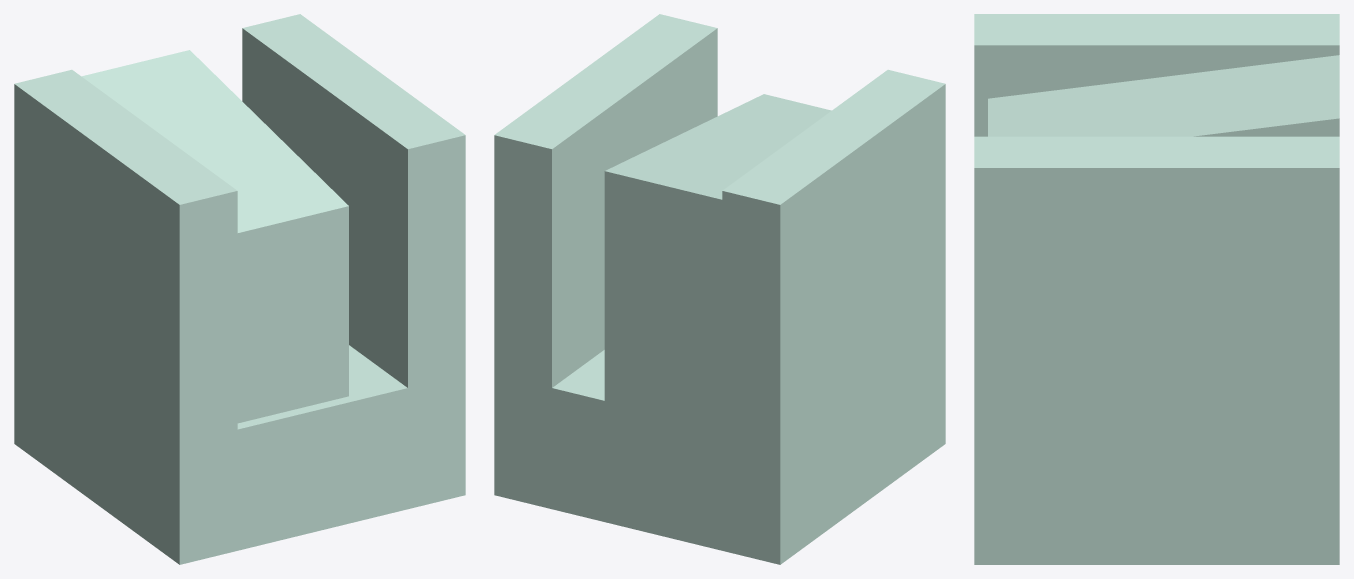
The picture shows the model from 3 angles, left to right: view 1: azimuth 30°, elevation 25°; view 2: azimuth 150°, elevation 25°; view 3: azimuth 270°, elevation 25°; orthographic projection. The views are drawn at different scales.
Visible parts, largest first — view 1: Renderer Node; view 2: Renderer Node; view 3: Renderer Node.
Boxes of the visible parts, <box> form: Renderer Node: <box>14,14,465,564</box>; Renderer Node: <box>494,14,945,564</box>; Renderer Node: <box>974,14,1339,564</box>.
Size of the model in its own units: 0.6237 by 0.75 by 0.625.
